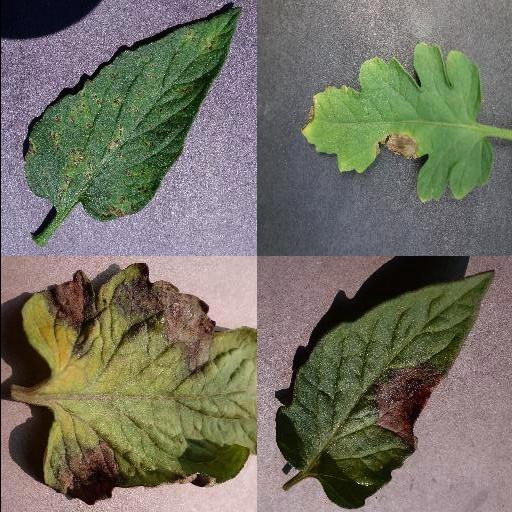Late Blight: (18, 262, 256, 507), (273, 270, 499, 510), (297, 39, 493, 205)
Septoria: (23, 8, 245, 220)
